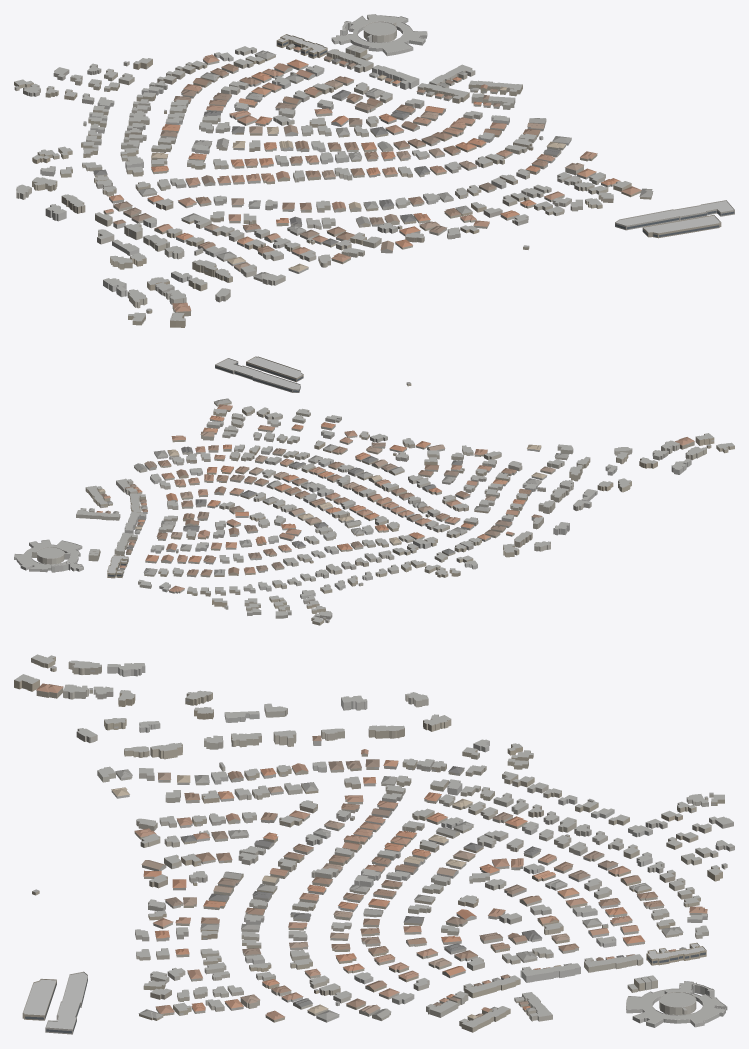
Rendered from buildings_r2_c6.glb.
3 views of the same model, one above another, from view 1: azimuth 30°, elevation 25°; view 2: azimuth 150°, elevation 25°; view 3: azimuth 270°, elevation 25° (orthographic). The views are drawn at different scales.
Visible parts, largest first — view 1: buildings_r2_c6; view 2: buildings_r2_c6; view 3: buildings_r2_c6.
Boxes of the visible parts, x1,y1,x2,y2 form: buildings_r2_c6: (14, 14, 734, 327); buildings_r2_c6: (14, 356, 734, 625); buildings_r2_c6: (14, 654, 734, 1034).
Bounding box in the file's own units: 878 × 82.49 × 808.
